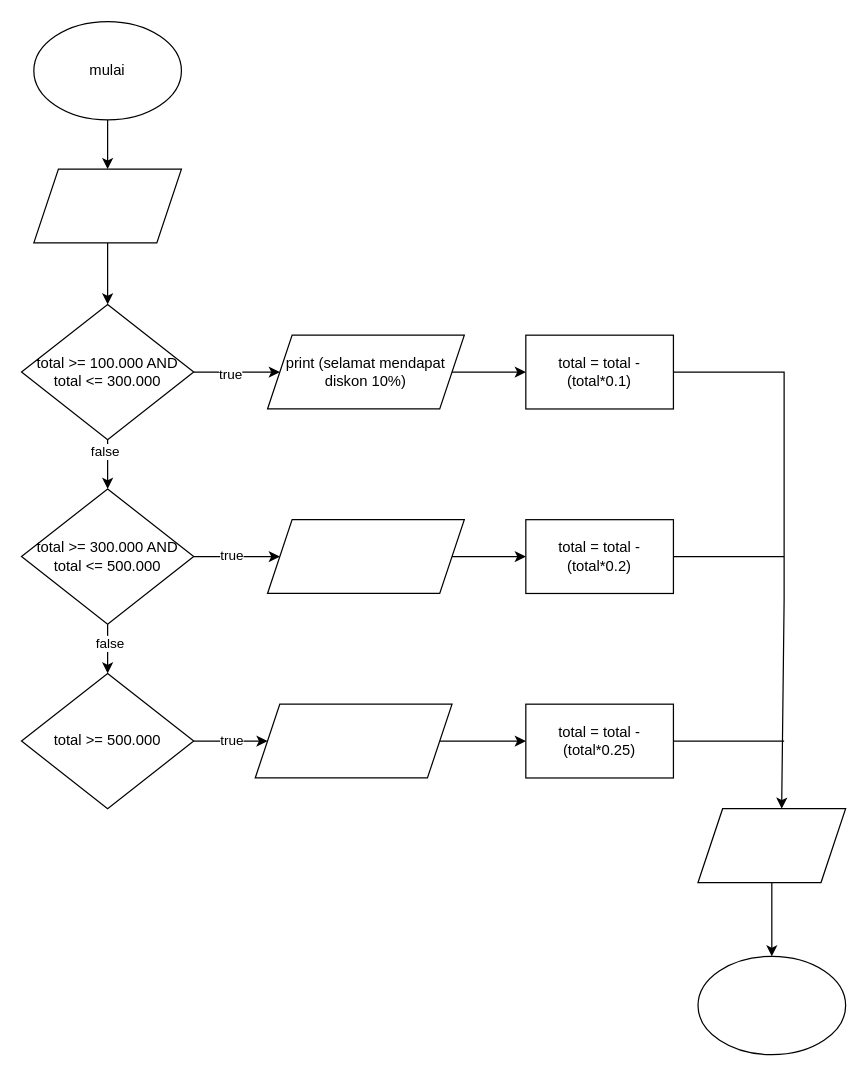
Some shapes in this 867 by 1076 pixel diagram are drawn without their labels. Here are the shapes that lost their labels. From the top down, the centre of each, then its label:
(107,205): total
(365,555): print (selamat mendapat diskon 20%)
(353,740): print (selamat mendapat diskon 25%)
(771,845): print(total)
